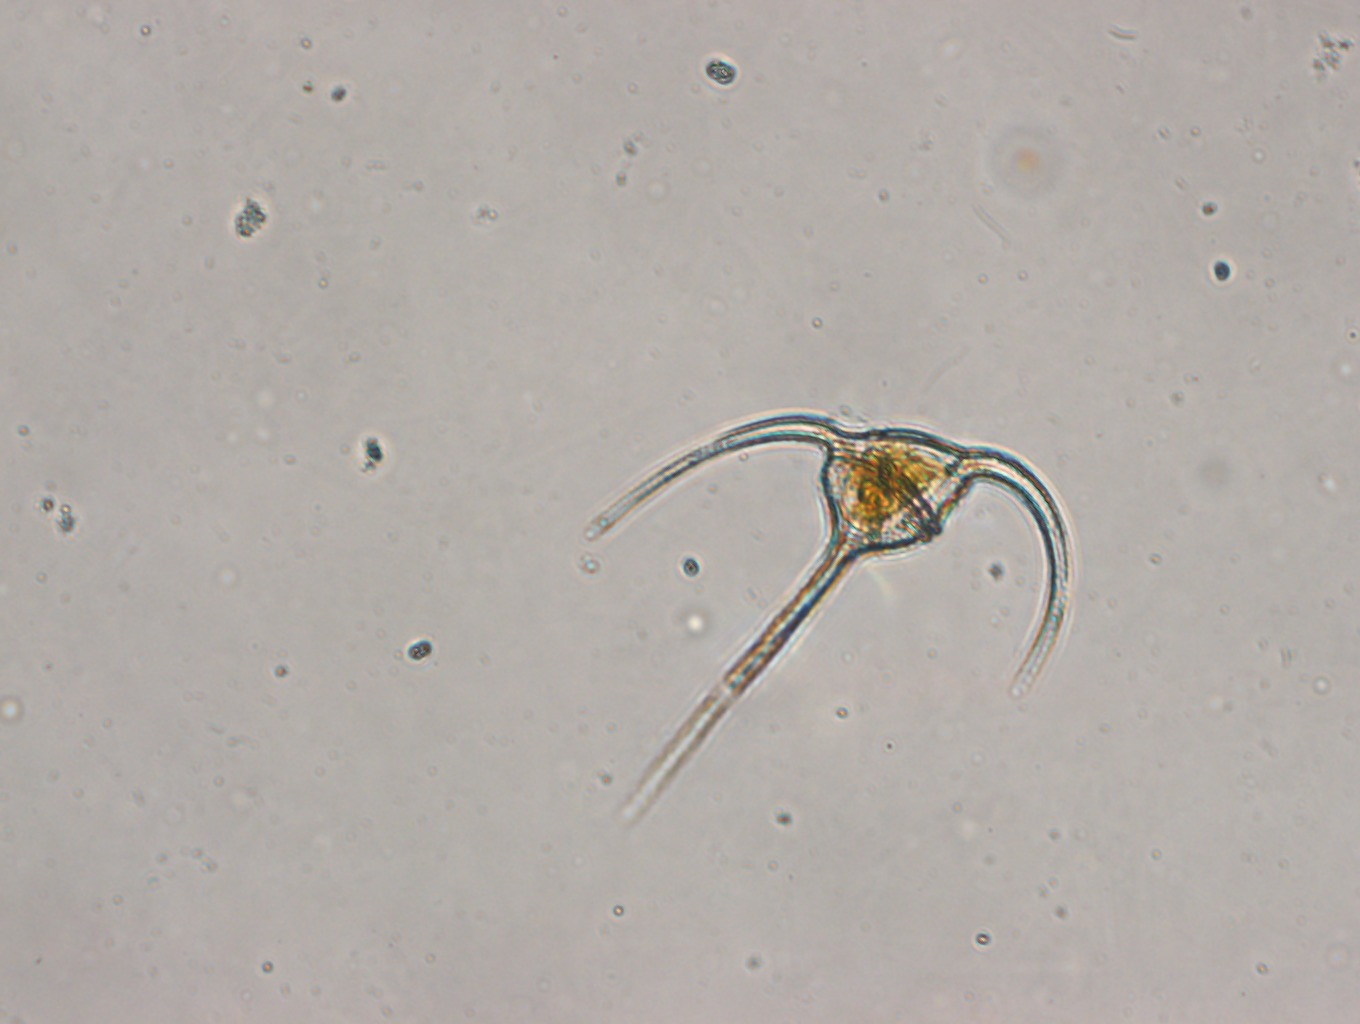ceratium trichoceros: (566, 410, 1086, 815)
